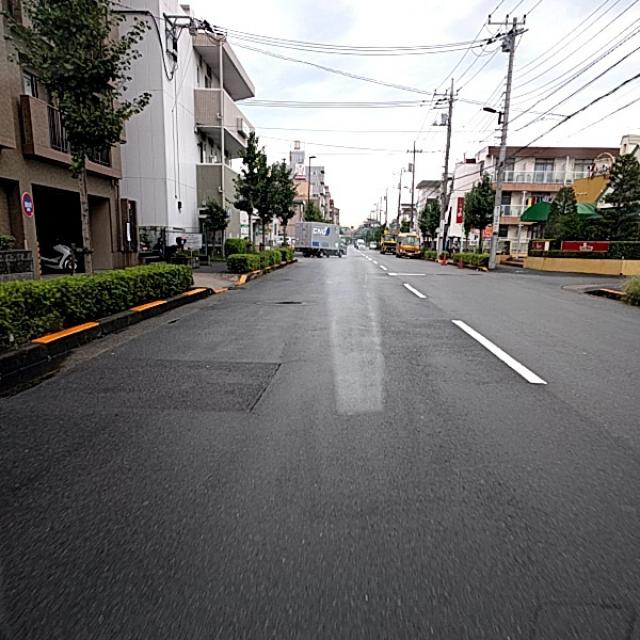pothole: (455, 433, 540, 566)
